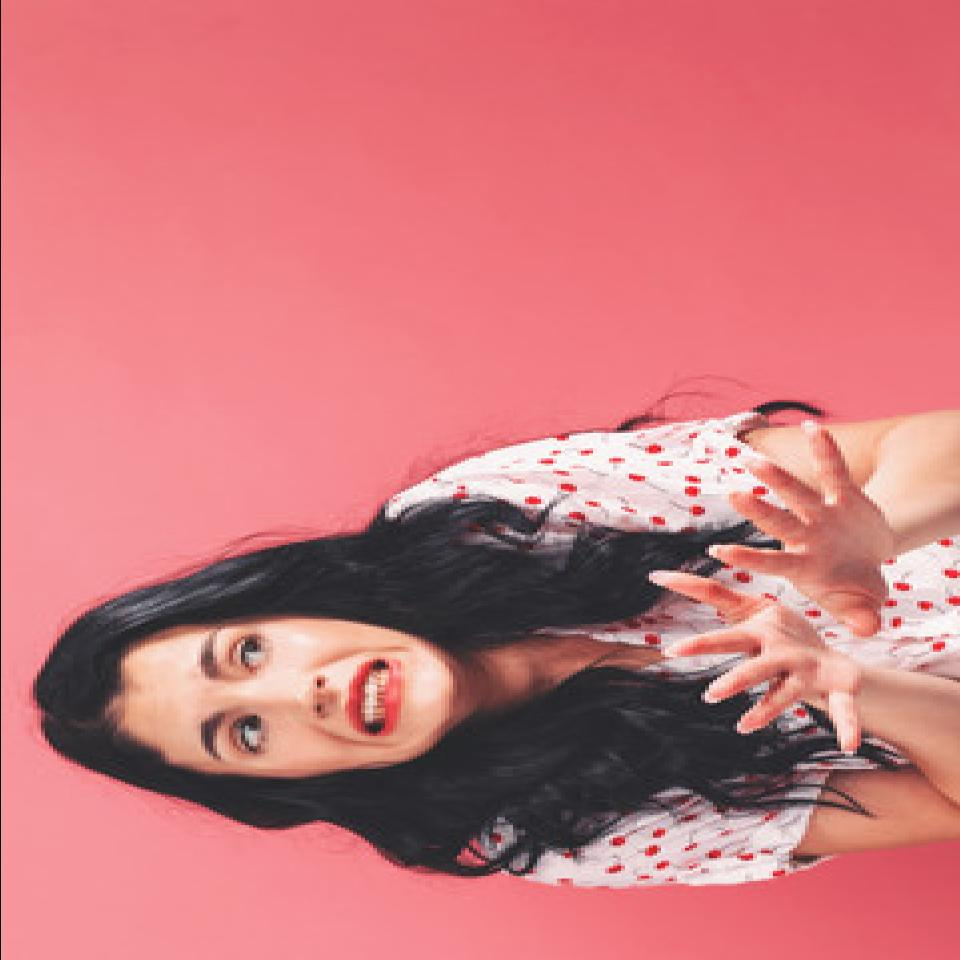Disgust: (122, 604, 456, 776)
